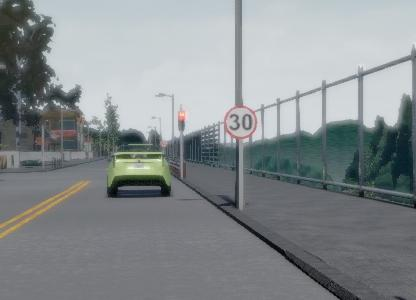Speed_30: (221, 103, 258, 140)
